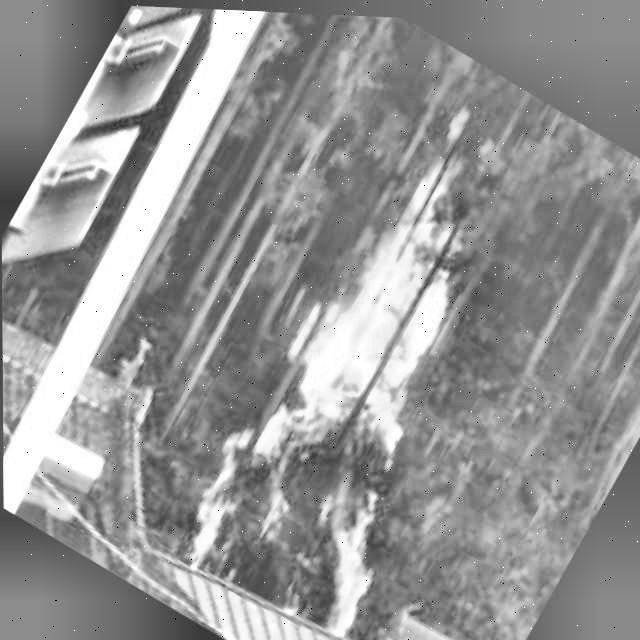Fire: (160, 59, 624, 640)
